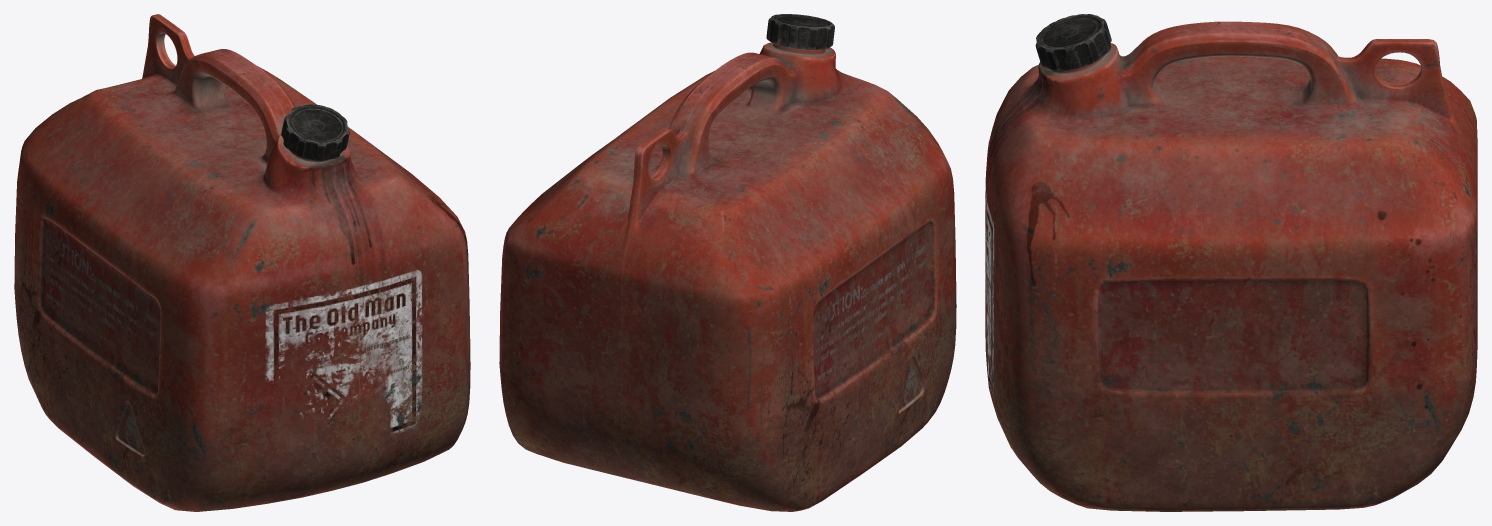
Rendered from plastic_jerrycan_1k.gltf.
3 renders of one model, left to right at view 1: azimuth 30°, elevation 25°; view 2: azimuth 150°, elevation 25°; view 3: azimuth 270°, elevation 25°, orthographic. The views are drawn at different scales.
Parts seen in each view (by area): view 1: PolyHaven_PlasticJerrycan; view 2: PolyHaven_PlasticJerrycan; view 3: PolyHaven_PlasticJerrycan.
Part boxes in pixels (left/top/right/bottom): PolyHaven_PlasticJerrycan: left=14, top=14, right=470, bottom=511; PolyHaven_PlasticJerrycan: left=499, top=14, right=956, bottom=511; PolyHaven_PlasticJerrycan: left=985, top=14, right=1477, bottom=511.
Bounding box in the file's own units: 0.268 × 0.3184 × 0.3409.
1 material, 1 textured.
